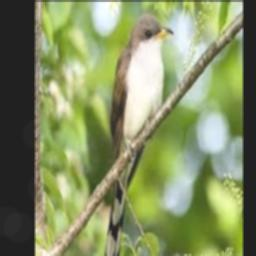Cuckoo: (103, 15, 174, 256)
